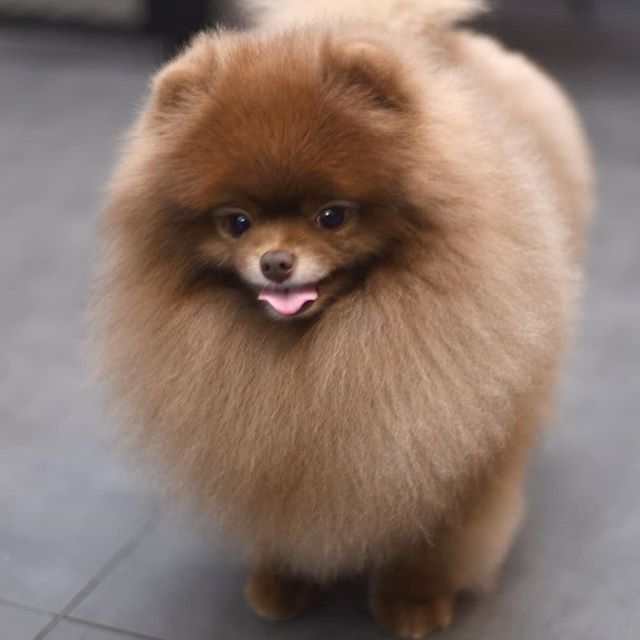pomeranian: (77, 3, 577, 631)
